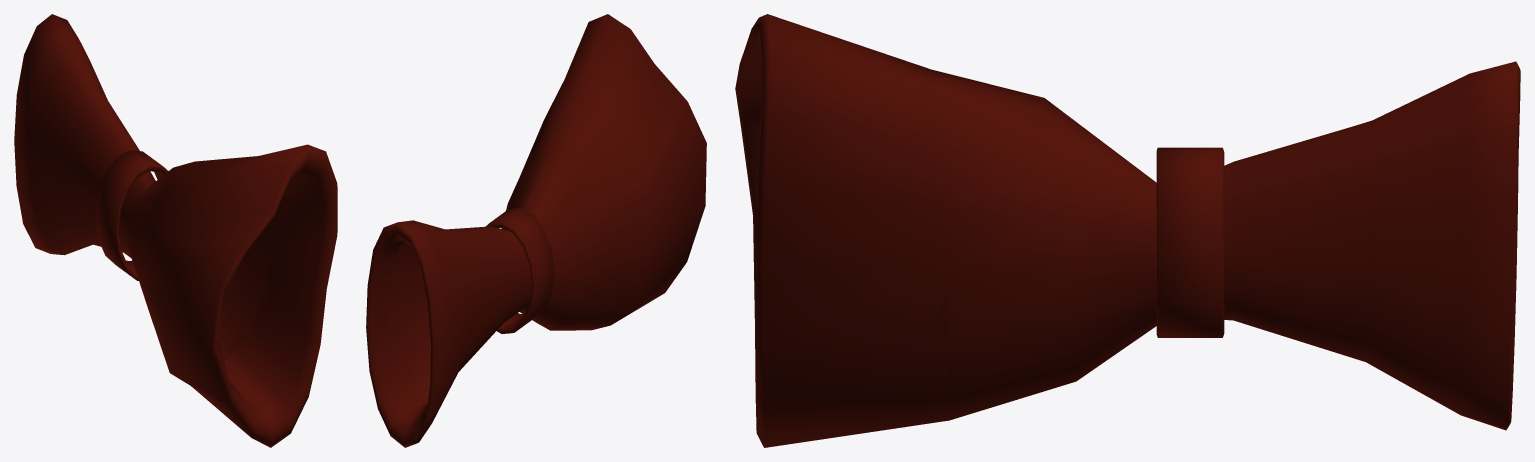
The model's file is cORTINAtEATRO.fbx.
3 views of the same model, side by side, from view 1: azimuth 30°, elevation 25°; view 2: azimuth 150°, elevation 25°; view 3: azimuth 270°, elevation 25° (orthographic). The views are drawn at different scales.
Visible parts, largest first — view 1: Cortina; view 2: Cortina; view 3: Cortina.
Boxes of the visible parts, x1,y1,x2,y2 form: Cortina: [14, 14, 337, 447]; Cortina: [366, 14, 706, 447]; Cortina: [735, 14, 1520, 447].
Bounding box in the file's own units: 192 × 418 × 644.
